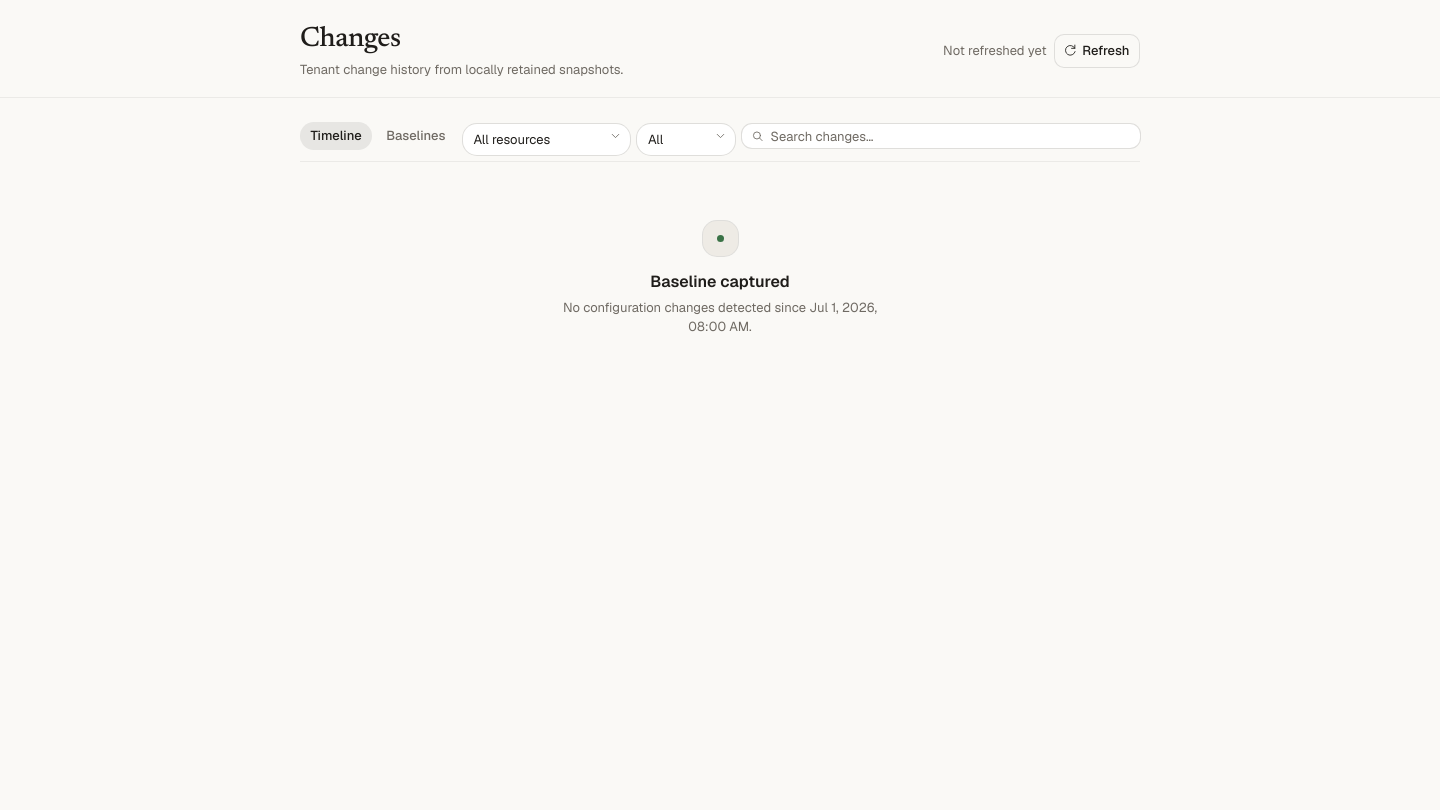
Test: Changes page › renders baseline resource counts and expands a field diff
The width and height of the screenshot is (1440, 810).
Click the tab "Baselines" at (416, 136), box [376,122,456,150]
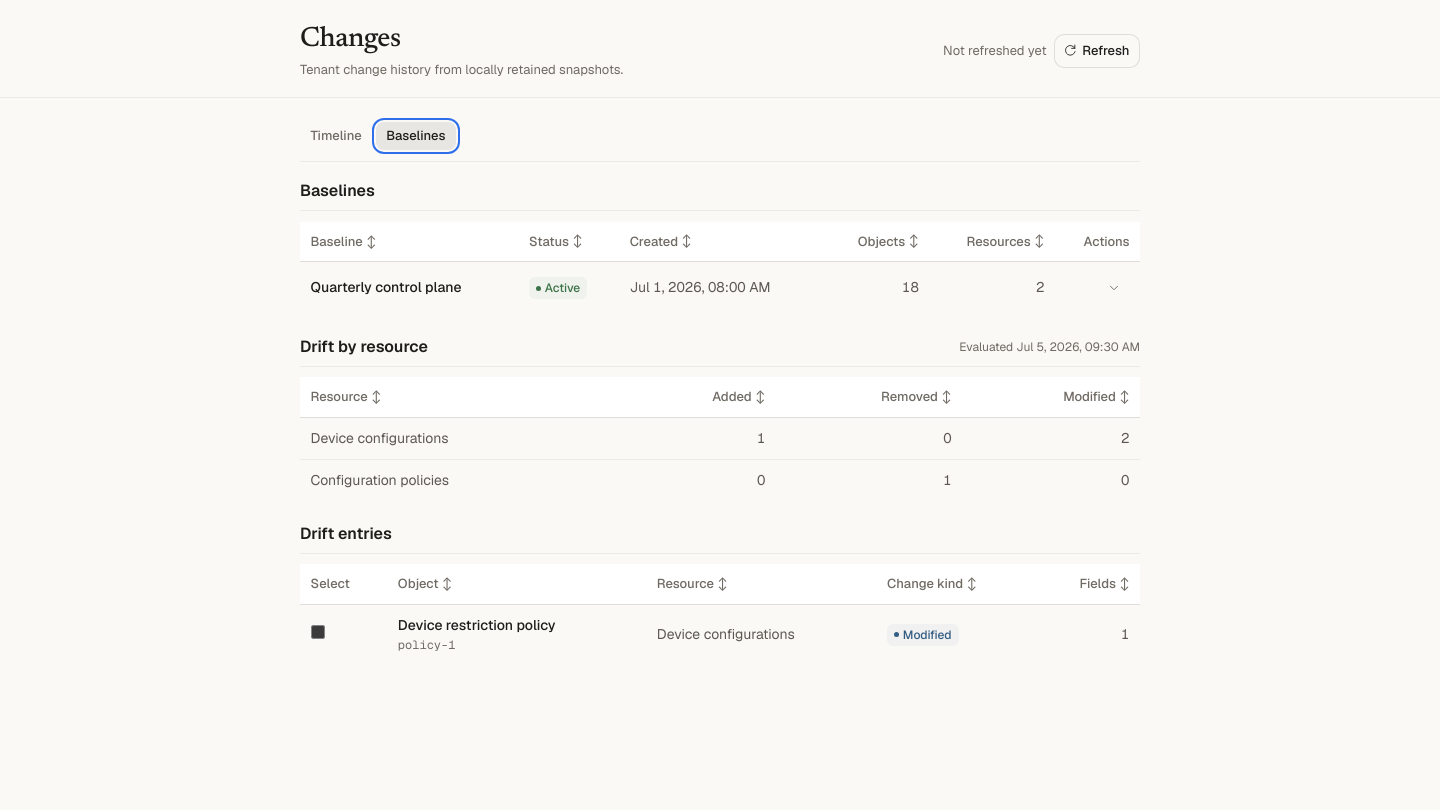
expect the row "Device configurations 1 0 2" is shown: met, box [300,418,1140,459]
expect the row "Configuration policies 0 1 0" is shown: met, box [300,459,1140,500]
Click the text "Device restriction policy" at (720, 634), box [300,604,1140,664]
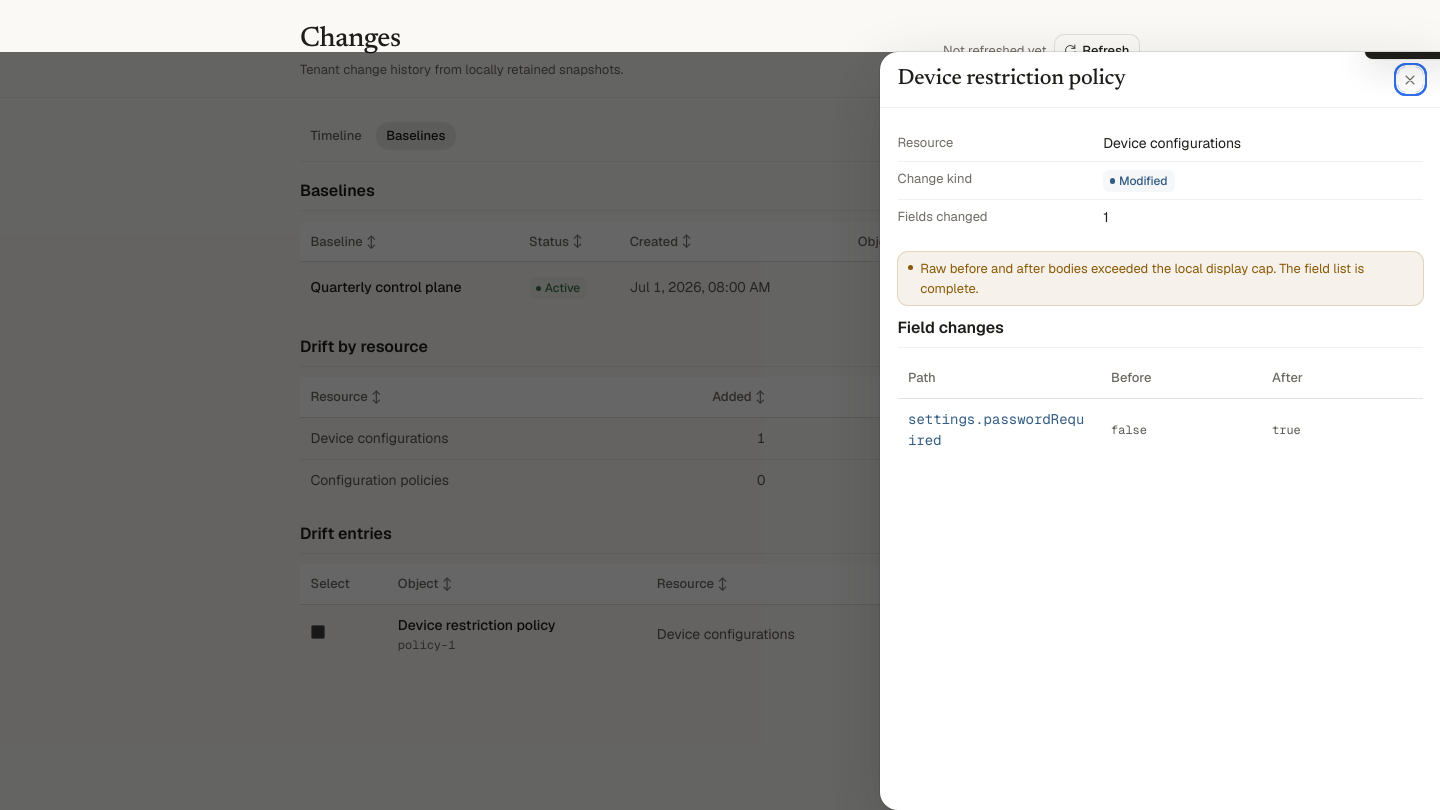
expect the text "settings.passwordRequired" is shown: met, box [908,410,1084,449]
expect the text "false" is shown: met, box [1111,422,1147,438]
expect the text "true" is shown: met, box [1272,422,1301,438]
